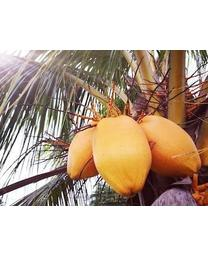coconut: (92, 114, 153, 194), (134, 115, 202, 178), (67, 124, 121, 180)
